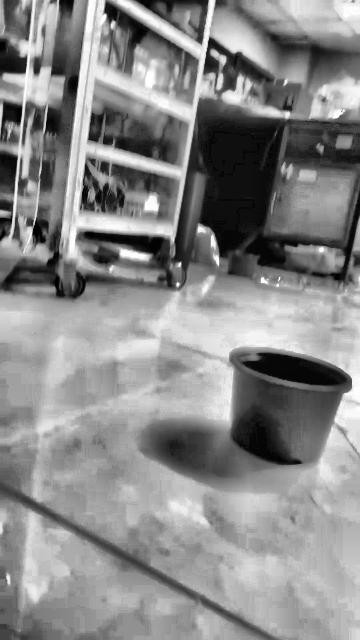pot: (229, 348, 351, 465)
